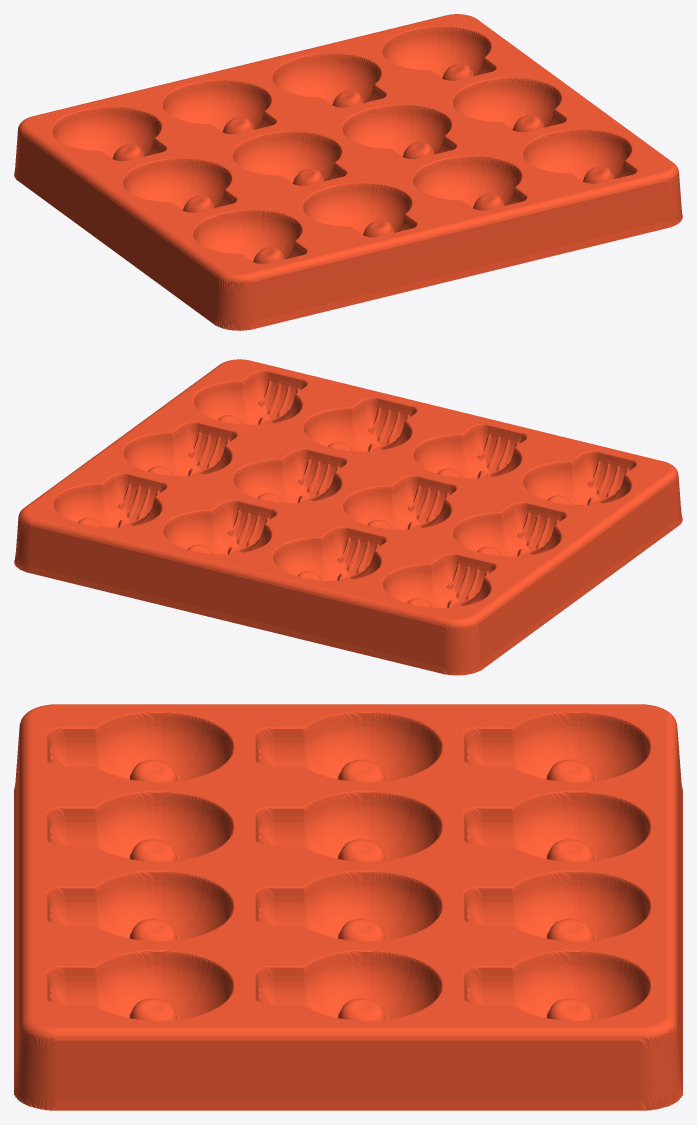
Rendered from mold.glb.
The picture shows the model from 3 angles, top to bottom: view 1: azimuth 30°, elevation 25°; view 2: azimuth 150°, elevation 25°; view 3: azimuth 270°, elevation 25°; orthographic projection. The views are drawn at different scales.
Parts seen in each view (by area): view 1: geometry_0; view 2: geometry_0; view 3: geometry_0.
Part boxes in pixels (x1,y1,x2,y2): geometry_0: (14, 14, 682, 330); geometry_0: (14, 359, 682, 675); geometry_0: (14, 704, 682, 1110).
Size of the model in its own units: 0.1654 by 0.0175 by 0.1389.
